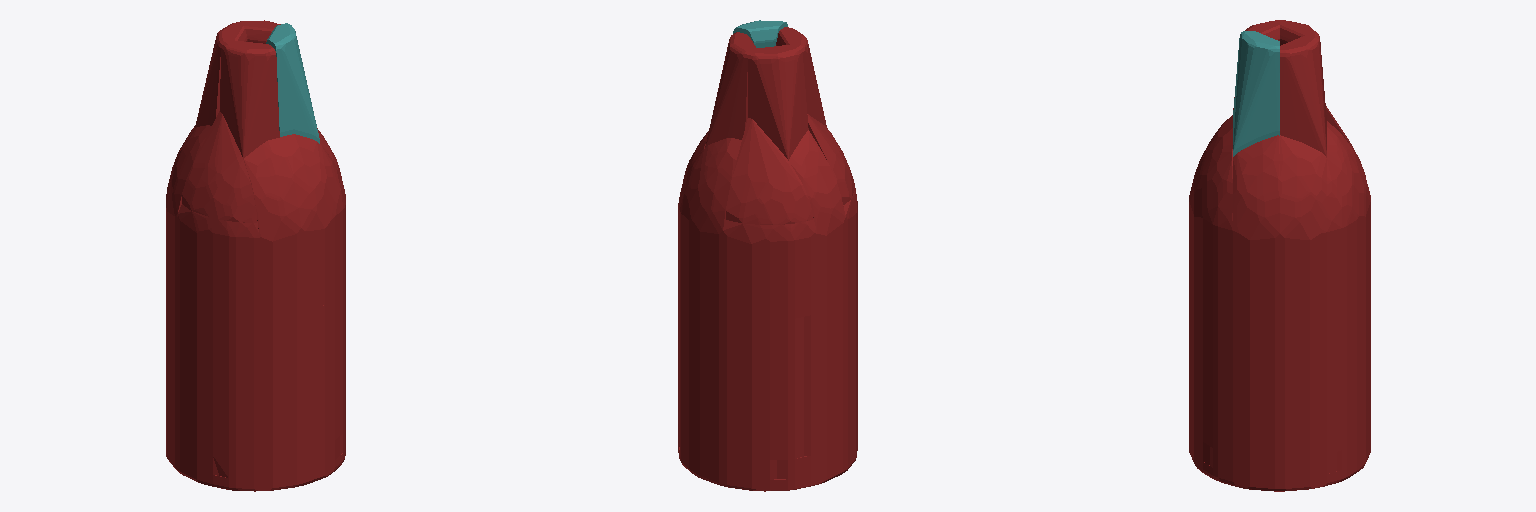
The robot description file, URDF, robot "root":
<robot name="root">
  <link name="bottle_body">
    <inertial>
      <origin xyz="0 0 0" rpy="0 0 0"/>
    </inertial>
    <mass value="1.00E-02"/>
    <visual>
      <origin xyz="0 0 0" rpy="0 0 0"/>
      <geometry>
        <mesh filename="core-bottle-7a82a497bc4d10511d385f351a1d14c5-coacd_convex_piece_25.obj" scale="1.0000E-01 1.0000E-01 1.0000E-01"/>
      </geometry>
      <material name="">
        <color rgba="6.00E-01 2.00E-01 2.00E-01 1"/>
      </material>
    </visual>
    <collision>
      <origin xyz="0 0 0" rpy="0 0 0"/>
      <geometry>
        <mesh filename="core-bottle-7a82a497bc4d10511d385f351a1d14c5-coacd_convex_piece_25.obj" scale="1.0000E-01 1.0000E-01 1.0000E-01"/>
      </geometry>
    </collision>
    <visual>
      <origin xyz="0 0 0" rpy="0 0 0"/>
      <geometry>
        <mesh filename="core-bottle-7a82a497bc4d10511d385f351a1d14c5-coacd_convex_piece_2.obj" scale="1.0000E-01 1.0000E-01 1.0000E-01"/>
      </geometry>
      <material name="">
        <color rgba="6.00E-01 2.00E-01 2.00E-01 1"/>
      </material>
    </visual>
    <collision>
      <origin xyz="0 0 0" rpy="0 0 0"/>
      <geometry>
        <mesh filename="core-bottle-7a82a497bc4d10511d385f351a1d14c5-coacd_convex_piece_2.obj" scale="1.0000E-01 1.0000E-01 1.0000E-01"/>
      </geometry>
    </collision>
    <visual>
      <origin xyz="0 0 0" rpy="0 0 0"/>
      <geometry>
        <mesh filename="core-bottle-7a82a497bc4d10511d385f351a1d14c5-coacd_convex_piece_8.obj" scale="1.0000E-01 1.0000E-01 1.0000E-01"/>
      </geometry>
      <material name="">
        <color rgba="6.00E-01 2.00E-01 2.00E-01 1"/>
      </material>
    </visual>
    <collision>
      <origin xyz="0 0 0" rpy="0 0 0"/>
      <geometry>
        <mesh filename="core-bottle-7a82a497bc4d10511d385f351a1d14c5-coacd_convex_piece_8.obj" scale="1.0000E-01 1.0000E-01 1.0000E-01"/>
      </geometry>
    </collision>
    <visual>
      <origin xyz="0 0 0" rpy="0 0 0"/>
      <geometry>
        <mesh filename="core-bottle-7a82a497bc4d10511d385f351a1d14c5-coacd_convex_piece_22.obj" scale="1.0000E-01 1.0000E-01 1.0000E-01"/>
      </geometry>
      <material name="">
        <color rgba="6.00E-01 2.00E-01 2.00E-01 1"/>
      </material>
    </visual>
    <collision>
      <origin xyz="0 0 0" rpy="0 0 0"/>
      <geometry>
        <mesh filename="core-bottle-7a82a497bc4d10511d385f351a1d14c5-coacd_convex_piece_22.obj" scale="1.0000E-01 1.0000E-01 1.0000E-01"/>
      </geometry>
    </collision>
    <visual>
      <origin xyz="0 0 0" rpy="0 0 0"/>
      <geometry>
        <mesh filename="core-bottle-7a82a497bc4d10511d385f351a1d14c5-coacd_convex_piece_16.obj" scale="1.0000E-01 1.0000E-01 1.0000E-01"/>
      </geometry>
      <material name="">
        <color rgba="6.00E-01 2.00E-01 2.00E-01 1"/>
      </material>
    </visual>
    <collision>
      <origin xyz="0 0 0" rpy="0 0 0"/>
      <geometry>
        <mesh filename="core-bottle-7a82a497bc4d10511d385f351a1d14c5-coacd_convex_piece_16.obj" scale="1.0000E-01 1.0000E-01 1.0000E-01"/>
      </geometry>
    </collision>
    <visual>
      <origin xyz="0 0 0" rpy="0 0 0"/>
      <geometry>
        <mesh filename="core-bottle-7a82a497bc4d10511d385f351a1d14c5-coacd_convex_piece_24.obj" scale="1.0000E-01 1.0000E-01 1.0000E-01"/>
      </geometry>
      <material name="">
        <color rgba="6.00E-01 2.00E-01 2.00E-01 1"/>
      </material>
    </visual>
    <collision>
      <origin xyz="0 0 0" rpy="0 0 0"/>
      <geometry>
        <mesh filename="core-bottle-7a82a497bc4d10511d385f351a1d14c5-coacd_convex_piece_24.obj" scale="1.0000E-01 1.0000E-01 1.0000E-01"/>
      </geometry>
    </collision>
    <visual>
      <origin xyz="0 0 0" rpy="0 0 0"/>
      <geometry>
        <mesh filename="core-bottle-7a82a497bc4d10511d385f351a1d14c5-coacd_convex_piece_11.obj" scale="1.0000E-01 1.0000E-01 1.0000E-01"/>
      </geometry>
      <material name="">
        <color rgba="6.00E-01 2.00E-01 2.00E-01 1"/>
      </material>
    </visual>
    <collision>
      <origin xyz="0 0 0" rpy="0 0 0"/>
      <geometry>
        <mesh filename="core-bottle-7a82a497bc4d10511d385f351a1d14c5-coacd_convex_piece_11.obj" scale="1.0000E-01 1.0000E-01 1.0000E-01"/>
      </geometry>
    </collision>
    <visual>
      <origin xyz="0 0 0" rpy="0 0 0"/>
      <geometry>
        <mesh filename="core-bottle-7a82a497bc4d10511d385f351a1d14c5-coacd_convex_piece_19.obj" scale="1.0000E-01 1.0000E-01 1.0000E-01"/>
      </geometry>
      <material name="">
        <color rgba="6.00E-01 2.00E-01 2.00E-01 1"/>
      </material>
    </visual>
    <collision>
      <origin xyz="0 0 0" rpy="0 0 0"/>
      <geometry>
        <mesh filename="core-bottle-7a82a497bc4d10511d385f351a1d14c5-coacd_convex_piece_19.obj" scale="1.0000E-01 1.0000E-01 1.0000E-01"/>
      </geometry>
    </collision>
    <visual>
      <origin xyz="0 0 0" rpy="0 0 0"/>
      <geometry>
        <mesh filename="core-bottle-7a82a497bc4d10511d385f351a1d14c5-coacd_convex_piece_14.obj" scale="1.0000E-01 1.0000E-01 1.0000E-01"/>
      </geometry>
      <material name="">
        <color rgba="6.00E-01 2.00E-01 2.00E-01 1"/>
      </material>
    </visual>
    <collision>
      <origin xyz="0 0 0" rpy="0 0 0"/>
      <geometry>
        <mesh filename="core-bottle-7a82a497bc4d10511d385f351a1d14c5-coacd_convex_piece_14.obj" scale="1.0000E-01 1.0000E-01 1.0000E-01"/>
      </geometry>
    </collision>
    <visual>
      <origin xyz="0 0 0" rpy="0 0 0"/>
      <geometry>
        <mesh filename="core-bottle-7a82a497bc4d10511d385f351a1d14c5-coacd_convex_piece_9.obj" scale="1.0000E-01 1.0000E-01 1.0000E-01"/>
      </geometry>
      <material name="">
        <color rgba="6.00E-01 2.00E-01 2.00E-01 1"/>
      </material>
    </visual>
    <collision>
      <origin xyz="0 0 0" rpy="0 0 0"/>
      <geometry>
        <mesh filename="core-bottle-7a82a497bc4d10511d385f351a1d14c5-coacd_convex_piece_9.obj" scale="1.0000E-01 1.0000E-01 1.0000E-01"/>
      </geometry>
    </collision>
    <visual>
      <origin xyz="0 0 0" rpy="0 0 0"/>
      <geometry>
        <mesh filename="core-bottle-7a82a497bc4d10511d385f351a1d14c5-coacd_convex_piece_20.obj" scale="1.0000E-01 1.0000E-01 1.0000E-01"/>
      </geometry>
      <material name="">
        <color rgba="6.00E-01 2.00E-01 2.00E-01 1"/>
      </material>
    </visual>
    <collision>
      <origin xyz="0 0 0" rpy="0 0 0"/>
      <geometry>
        <mesh filename="core-bottle-7a82a497bc4d10511d385f351a1d14c5-coacd_convex_piece_20.obj" scale="1.0000E-01 1.0000E-01 1.0000E-01"/>
      </geometry>
    </collision>
    <visual>
      <origin xyz="0 0 0" rpy="0 0 0"/>
      <geometry>
        <mesh filename="core-bottle-7a82a497bc4d10511d385f351a1d14c5-coacd_convex_piece_21.obj" scale="1.0000E-01 1.0000E-01 1.0000E-01"/>
      </geometry>
      <material name="">
        <color rgba="6.00E-01 2.00E-01 2.00E-01 1"/>
      </material>
    </visual>
    <collision>
      <origin xyz="0 0 0" rpy="0 0 0"/>
      <geometry>
        <mesh filename="core-bottle-7a82a497bc4d10511d385f351a1d14c5-coacd_convex_piece_21.obj" scale="1.0000E-01 1.0000E-01 1.0000E-01"/>
      </geometry>
    </collision>
    <visual>
      <origin xyz="0 0 0" rpy="0 0 0"/>
      <geometry>
        <mesh filename="core-bottle-7a82a497bc4d10511d385f351a1d14c5-coacd_convex_piece_18.obj" scale="1.0000E-01 1.0000E-01 1.0000E-01"/>
      </geometry>
      <material name="">
        <color rgba="6.00E-01 2.00E-01 2.00E-01 1"/>
      </material>
    </visual>
    <collision>
      <origin xyz="0 0 0" rpy="0 0 0"/>
      <geometry>
        <mesh filename="core-bottle-7a82a497bc4d10511d385f351a1d14c5-coacd_convex_piece_18.obj" scale="1.0000E-01 1.0000E-01 1.0000E-01"/>
      </geometry>
    </collision>
    <visual>
      <origin xyz="0 0 0" rpy="0 0 0"/>
      <geometry>
        <mesh filename="core-bottle-7a82a497bc4d10511d385f351a1d14c5-coacd_convex_piece_27.obj" scale="1.0000E-01 1.0000E-01 1.0000E-01"/>
      </geometry>
      <material name="">
        <color rgba="6.00E-01 2.00E-01 2.00E-01 1"/>
      </material>
    </visual>
    <collision>
      <origin xyz="0 0 0" rpy="0 0 0"/>
      <geometry>
        <mesh filename="core-bottle-7a82a497bc4d10511d385f351a1d14c5-coacd_convex_piece_27.obj" scale="1.0000E-01 1.0000E-01 1.0000E-01"/>
      </geometry>
    </collision>
    <visual>
      <origin xyz="0 0 0" rpy="0 0 0"/>
      <geometry>
        <mesh filename="core-bottle-7a82a497bc4d10511d385f351a1d14c5-coacd_convex_piece_23.obj" scale="1.0000E-01 1.0000E-01 1.0000E-01"/>
      </geometry>
      <material name="">
        <color rgba="6.00E-01 2.00E-01 2.00E-01 1"/>
      </material>
    </visual>
    <collision>
      <origin xyz="0 0 0" rpy="0 0 0"/>
      <geometry>
        <mesh filename="core-bottle-7a82a497bc4d10511d385f351a1d14c5-coacd_convex_piece_23.obj" scale="1.0000E-01 1.0000E-01 1.0000E-01"/>
      </geometry>
    </collision>
    <visual>
      <origin xyz="0 0 0" rpy="0 0 0"/>
      <geometry>
        <mesh filename="core-bottle-7a82a497bc4d10511d385f351a1d14c5-coacd_convex_piece_3.obj" scale="1.0000E-01 1.0000E-01 1.0000E-01"/>
      </geometry>
      <material name="">
        <color rgba="6.00E-01 2.00E-01 2.00E-01 1"/>
      </material>
    </visual>
    <collision>
      <origin xyz="0 0 0" rpy="0 0 0"/>
      <geometry>
        <mesh filename="core-bottle-7a82a497bc4d10511d385f351a1d14c5-coacd_convex_piece_3.obj" scale="1.0000E-01 1.0000E-01 1.0000E-01"/>
      </geometry>
    </collision>
    <visual>
      <origin xyz="0 0 0" rpy="0 0 0"/>
      <geometry>
        <mesh filename="core-bottle-7a82a497bc4d10511d385f351a1d14c5-coacd_convex_piece_5.obj" scale="1.0000E-01 1.0000E-01 1.0000E-01"/>
      </geometry>
      <material name="">
        <color rgba="6.00E-01 2.00E-01 2.00E-01 1"/>
      </material>
    </visual>
    <collision>
      <origin xyz="0 0 0" rpy="0 0 0"/>
      <geometry>
        <mesh filename="core-bottle-7a82a497bc4d10511d385f351a1d14c5-coacd_convex_piece_5.obj" scale="1.0000E-01 1.0000E-01 1.0000E-01"/>
      </geometry>
    </collision>
    <visual>
      <origin xyz="0 0 0" rpy="0 0 0"/>
      <geometry>
        <mesh filename="core-bottle-7a82a497bc4d10511d385f351a1d14c5-coacd_convex_piece_7.obj" scale="1.0000E-01 1.0000E-01 1.0000E-01"/>
      </geometry>
      <material name="">
        <color rgba="6.00E-01 2.00E-01 2.00E-01 1"/>
      </material>
    </visual>
    <collision>
      <origin xyz="0 0 0" rpy="0 0 0"/>
      <geometry>
        <mesh filename="core-bottle-7a82a497bc4d10511d385f351a1d14c5-coacd_convex_piece_7.obj" scale="1.0000E-01 1.0000E-01 1.0000E-01"/>
      </geometry>
    </collision>
    <visual>
      <origin xyz="0 0 0" rpy="0 0 0"/>
      <geometry>
        <mesh filename="core-bottle-7a82a497bc4d10511d385f351a1d14c5-coacd_convex_piece_0.obj" scale="1.0000E-01 1.0000E-01 1.0000E-01"/>
      </geometry>
      <material name="">
        <color rgba="6.00E-01 2.00E-01 2.00E-01 1"/>
      </material>
    </visual>
    <collision>
      <origin xyz="0 0 0" rpy="0 0 0"/>
      <geometry>
        <mesh filename="core-bottle-7a82a497bc4d10511d385f351a1d14c5-coacd_convex_piece_0.obj" scale="1.0000E-01 1.0000E-01 1.0000E-01"/>
      </geometry>
    </collision>
    <visual>
      <origin xyz="0 0 0" rpy="0 0 0"/>
      <geometry>
        <mesh filename="core-bottle-7a82a497bc4d10511d385f351a1d14c5-coacd_convex_piece_13.obj" scale="1.0000E-01 1.0000E-01 1.0000E-01"/>
      </geometry>
      <material name="">
        <color rgba="6.00E-01 2.00E-01 2.00E-01 1"/>
      </material>
    </visual>
    <collision>
      <origin xyz="0 0 0" rpy="0 0 0"/>
      <geometry>
        <mesh filename="core-bottle-7a82a497bc4d10511d385f351a1d14c5-coacd_convex_piece_13.obj" scale="1.0000E-01 1.0000E-01 1.0000E-01"/>
      </geometry>
    </collision>
    <visual>
      <origin xyz="0 0 0" rpy="0 0 0"/>
      <geometry>
        <mesh filename="core-bottle-7a82a497bc4d10511d385f351a1d14c5-coacd_convex_piece_17.obj" scale="1.0000E-01 1.0000E-01 1.0000E-01"/>
      </geometry>
      <material name="">
        <color rgba="6.00E-01 2.00E-01 2.00E-01 1"/>
      </material>
    </visual>
    <collision>
      <origin xyz="0 0 0" rpy="0 0 0"/>
      <geometry>
        <mesh filename="core-bottle-7a82a497bc4d10511d385f351a1d14c5-coacd_convex_piece_17.obj" scale="1.0000E-01 1.0000E-01 1.0000E-01"/>
      </geometry>
    </collision>
    <visual>
      <origin xyz="0 0 0" rpy="0 0 0"/>
      <geometry>
        <mesh filename="core-bottle-7a82a497bc4d10511d385f351a1d14c5-coacd_convex_piece_26.obj" scale="1.0000E-01 1.0000E-01 1.0000E-01"/>
      </geometry>
      <material name="">
        <color rgba="6.00E-01 2.00E-01 2.00E-01 1"/>
      </material>
    </visual>
    <collision>
      <origin xyz="0 0 0" rpy="0 0 0"/>
      <geometry>
        <mesh filename="core-bottle-7a82a497bc4d10511d385f351a1d14c5-coacd_convex_piece_26.obj" scale="1.0000E-01 1.0000E-01 1.0000E-01"/>
      </geometry>
    </collision>
    <visual>
      <origin xyz="0 0 0" rpy="0 0 0"/>
      <geometry>
        <mesh filename="core-bottle-7a82a497bc4d10511d385f351a1d14c5-coacd_convex_piece_15.obj" scale="1.0000E-01 1.0000E-01 1.0000E-01"/>
      </geometry>
      <material name="">
        <color rgba="6.00E-01 2.00E-01 2.00E-01 1"/>
      </material>
    </visual>
    <collision>
      <origin xyz="0 0 0" rpy="0 0 0"/>
      <geometry>
        <mesh filename="core-bottle-7a82a497bc4d10511d385f351a1d14c5-coacd_convex_piece_15.obj" scale="1.0000E-01 1.0000E-01 1.0000E-01"/>
      </geometry>
    </collision>
    <visual>
      <origin xyz="0 0 0" rpy="0 0 0"/>
      <geometry>
        <mesh filename="core-bottle-7a82a497bc4d10511d385f351a1d14c5-coacd_convex_piece_6.obj" scale="1.0000E-01 1.0000E-01 1.0000E-01"/>
      </geometry>
      <material name="">
        <color rgba="6.00E-01 2.00E-01 2.00E-01 1"/>
      </material>
    </visual>
    <collision>
      <origin xyz="0 0 0" rpy="0 0 0"/>
      <geometry>
        <mesh filename="core-bottle-7a82a497bc4d10511d385f351a1d14c5-coacd_convex_piece_6.obj" scale="1.0000E-01 1.0000E-01 1.0000E-01"/>
      </geometry>
    </collision>
    <visual>
      <origin xyz="0 0 0" rpy="0 0 0"/>
      <geometry>
        <mesh filename="core-bottle-7a82a497bc4d10511d385f351a1d14c5-coacd_convex_piece_1.obj" scale="1.0000E-01 1.0000E-01 1.0000E-01"/>
      </geometry>
      <material name="">
        <color rgba="6.00E-01 2.00E-01 2.00E-01 1"/>
      </material>
    </visual>
    <collision>
      <origin xyz="0 0 0" rpy="0 0 0"/>
      <geometry>
        <mesh filename="core-bottle-7a82a497bc4d10511d385f351a1d14c5-coacd_convex_piece_1.obj" scale="1.0000E-01 1.0000E-01 1.0000E-01"/>
      </geometry>
    </collision>
    <visual>
      <origin xyz="0 0 0" rpy="0 0 0"/>
      <geometry>
        <mesh filename="core-bottle-7a82a497bc4d10511d385f351a1d14c5-coacd_convex_piece_12.obj" scale="1.0000E-01 1.0000E-01 1.0000E-01"/>
      </geometry>
      <material name="">
        <color rgba="6.00E-01 2.00E-01 2.00E-01 1"/>
      </material>
    </visual>
    <collision>
      <origin xyz="0 0 0" rpy="0 0 0"/>
      <geometry>
        <mesh filename="core-bottle-7a82a497bc4d10511d385f351a1d14c5-coacd_convex_piece_12.obj" scale="1.0000E-01 1.0000E-01 1.0000E-01"/>
      </geometry>
    </collision>
    <visual>
      <origin xyz="0 0 0" rpy="0 0 0"/>
      <geometry>
        <mesh filename="core-bottle-7a82a497bc4d10511d385f351a1d14c5-coacd_convex_piece_10.obj" scale="1.0000E-01 1.0000E-01 1.0000E-01"/>
      </geometry>
      <material name="">
        <color rgba="6.00E-01 2.00E-01 2.00E-01 1"/>
      </material>
    </visual>
    <collision>
      <origin xyz="0 0 0" rpy="0 0 0"/>
      <geometry>
        <mesh filename="core-bottle-7a82a497bc4d10511d385f351a1d14c5-coacd_convex_piece_10.obj" scale="1.0000E-01 1.0000E-01 1.0000E-01"/>
      </geometry>
    </collision>
    <visual>
      <origin xyz="0 0 0" rpy="0 0 0"/>
      <geometry>
        <mesh filename="core-bottle-7a82a497bc4d10511d385f351a1d14c5-coacd_convex_piece_28.obj" scale="1.0000E-01 1.0000E-01 1.0000E-01"/>
      </geometry>
      <material name="">
        <color rgba="6.00E-01 2.00E-01 2.00E-01 1"/>
      </material>
    </visual>
    <collision>
      <origin xyz="0 0 0" rpy="0 0 0"/>
      <geometry>
        <mesh filename="core-bottle-7a82a497bc4d10511d385f351a1d14c5-coacd_convex_piece_28.obj" scale="1.0000E-01 1.0000E-01 1.0000E-01"/>
      </geometry>
    </collision>
    <visual>
      <origin xyz="0 0 0" rpy="0 0 0"/>
      <geometry>
        <mesh filename="core-bottle-7a82a497bc4d10511d385f351a1d14c5-coacd_convex_piece_29.obj" scale="1.0000E-01 1.0000E-01 1.0000E-01"/>
      </geometry>
      <material name="">
        <color rgba="6.00E-01 2.00E-01 2.00E-01 1"/>
      </material>
    </visual>
    <collision>
      <origin xyz="0 0 0" rpy="0 0 0"/>
      <geometry>
        <mesh filename="core-bottle-7a82a497bc4d10511d385f351a1d14c5-coacd_convex_piece_29.obj" scale="1.0000E-01 1.0000E-01 1.0000E-01"/>
      </geometry>
    </collision>
  </link>
  <link name="bottle_cap">
    <origin xyz="0 0 0.002" rpy="0 0 0"/>
    <mass value="1.00E-02"/>
    <visual>
      <origin xyz="0 0 0.002" rpy="0 0 0"/>
      <geometry>
        <mesh filename="core-bottle-7a82a497bc4d10511d385f351a1d14c5-coacd_convex_piece_4.obj" scale="1.0000E-01 1.0000E-01 1.0000E-01"/>
      </geometry>
      <material name="">
        <color rgba="3.00E-01 6.00E-01 6.00E-01 1"/>
      </material>
    </visual>
    <collision>
      <origin xyz="0 0 0.002" rpy="0 0 0"/>
      <geometry>
        <mesh filename="core-bottle-7a82a497bc4d10511d385f351a1d14c5-coacd_convex_piece_4.obj" scale="1.0000E-01 1.0000E-01 1.0000E-01"/>
      </geometry>
    </collision>
  </link>
  <joint name="bottle_cap_joint" type="revolute">
    <origin xyz="0 0 0" rpy="0 0 0"/>
    <parent link="bottle_body"/>
    <child link="bottle_cap"/>
    <axis xyz="0 0 1"/>
    <limit lower="0.00" upper="6.28"/>
    <dynamics damping="0.05"/>
  </joint>
</robot>

--- What the picture shows (computed from the rendered views, not written in the file) ---
3 views of the same robot in one strip: view 1: azimuth 30°, elevation 25°; view 2: azimuth 150°, elevation 25°; view 3: azimuth 270°, elevation 25° (orthographic).
Model root with 2 links and 1 joints (1 revolute), rooted at bottle_body, posed every joint at zero.
Visible links, largest first — view 1: bottle_body, bottle_cap; view 2: bottle_body, bottle_cap; view 3: bottle_body, bottle_cap.
Boxes of the visible links, bbox=[...] form: bottle_body: bbox=[166, 20, 345, 491]; bottle_cap: bbox=[266, 23, 319, 143]; bottle_body: bbox=[678, 27, 857, 491]; bottle_cap: bbox=[733, 20, 787, 47]; bottle_body: bbox=[1189, 20, 1370, 491]; bottle_cap: bbox=[1233, 31, 1279, 156].
Size in the robot's own frame: 0.0718 by 0.0718 by 0.1854 metres.
Meshes: 30 distinct files referenced, 30 mesh visuals loaded (30 OBJ).